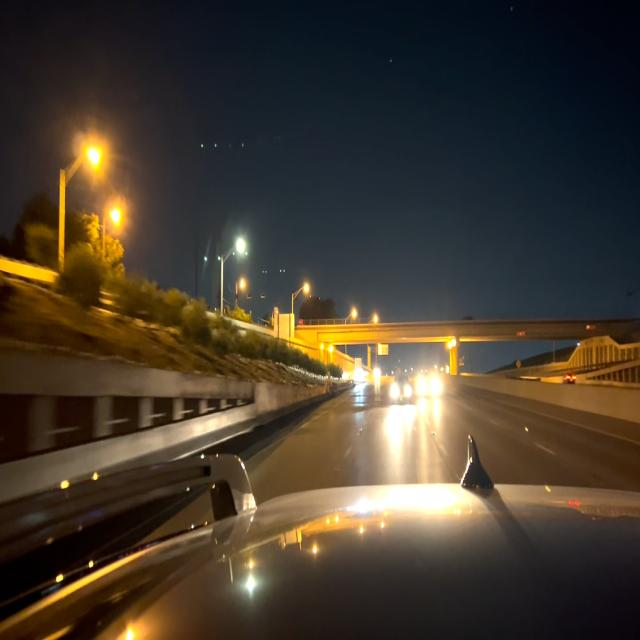back-of-sign: (274, 314, 294, 339)
